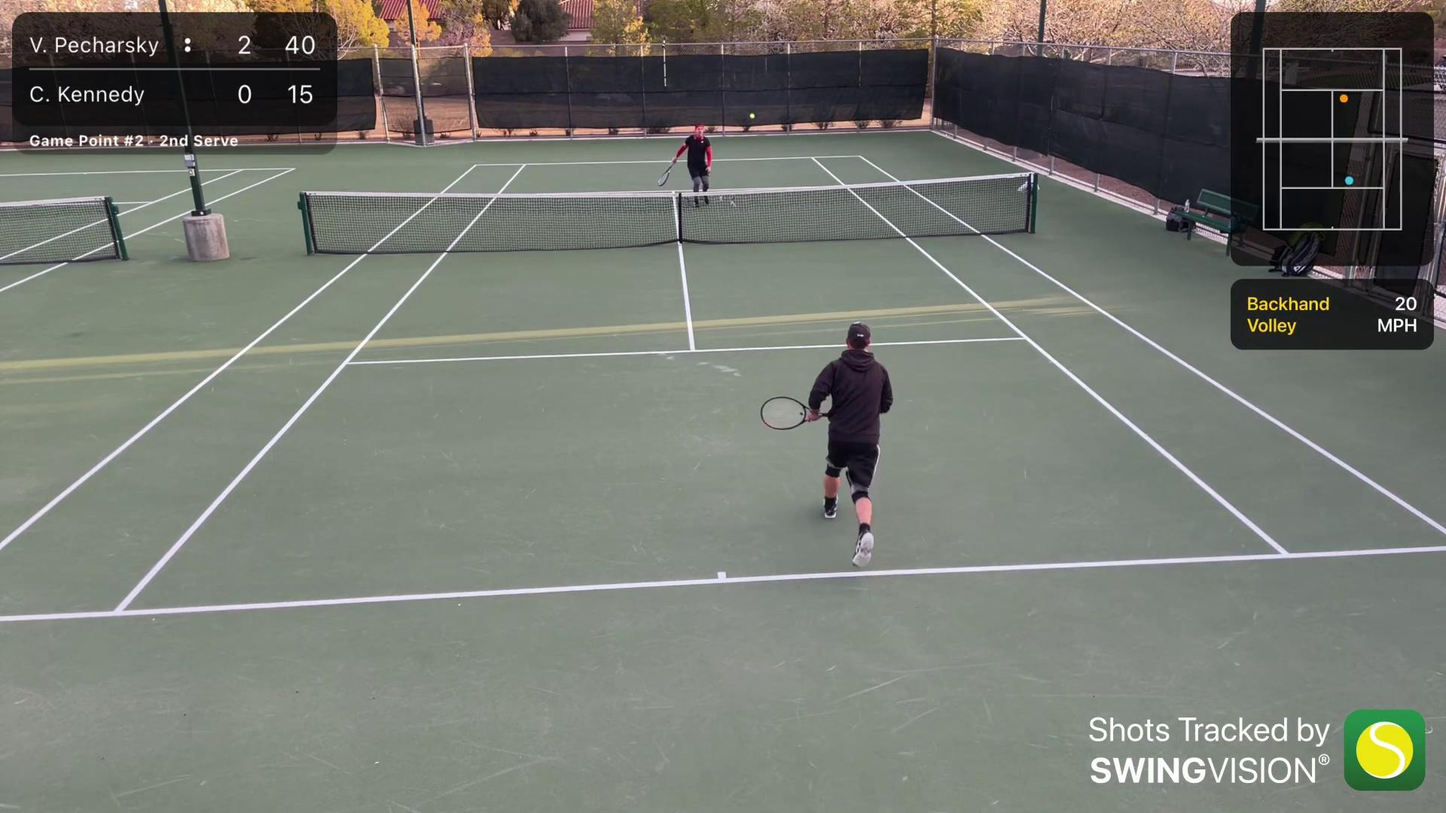ball: (747, 111, 757, 120)
